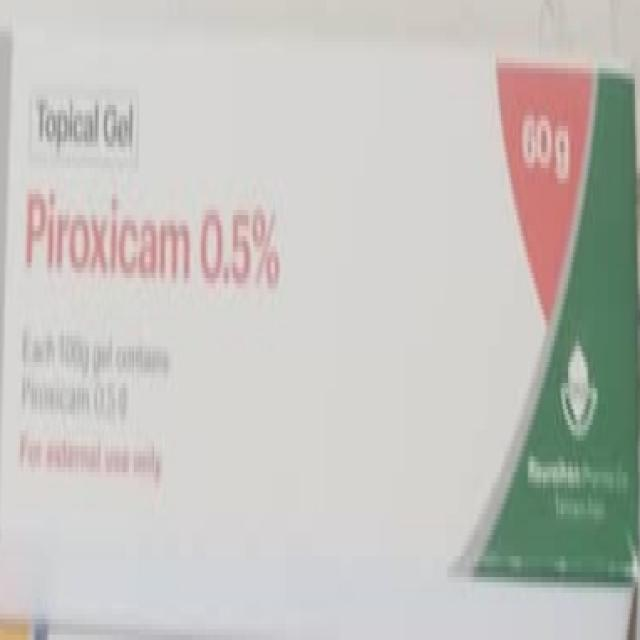drug-name: (23, 188, 288, 296)
